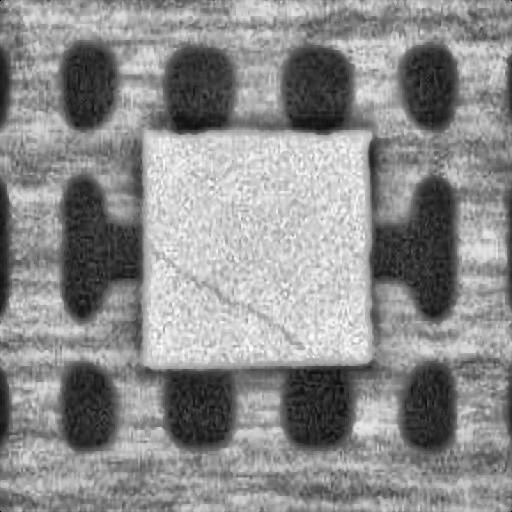DIE_CRACK: (147, 236, 303, 348)
